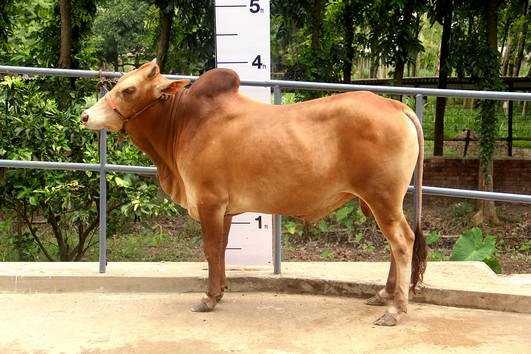cow: (65, 52, 436, 334)
